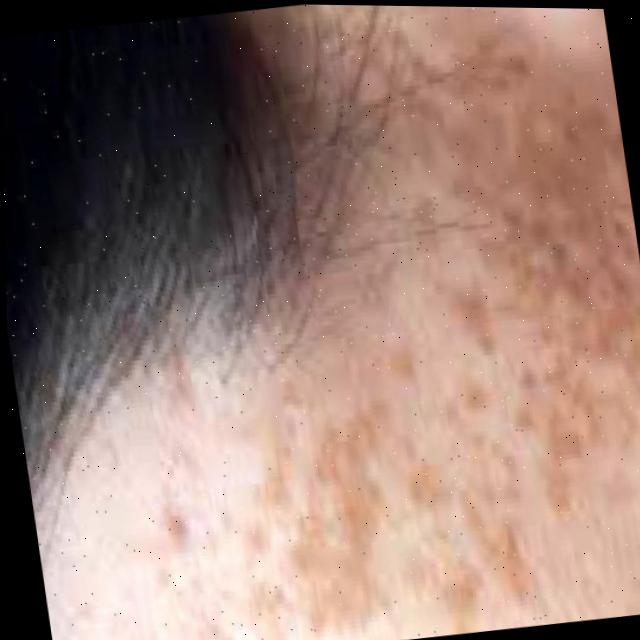Melasma: (234, 136, 640, 604)
